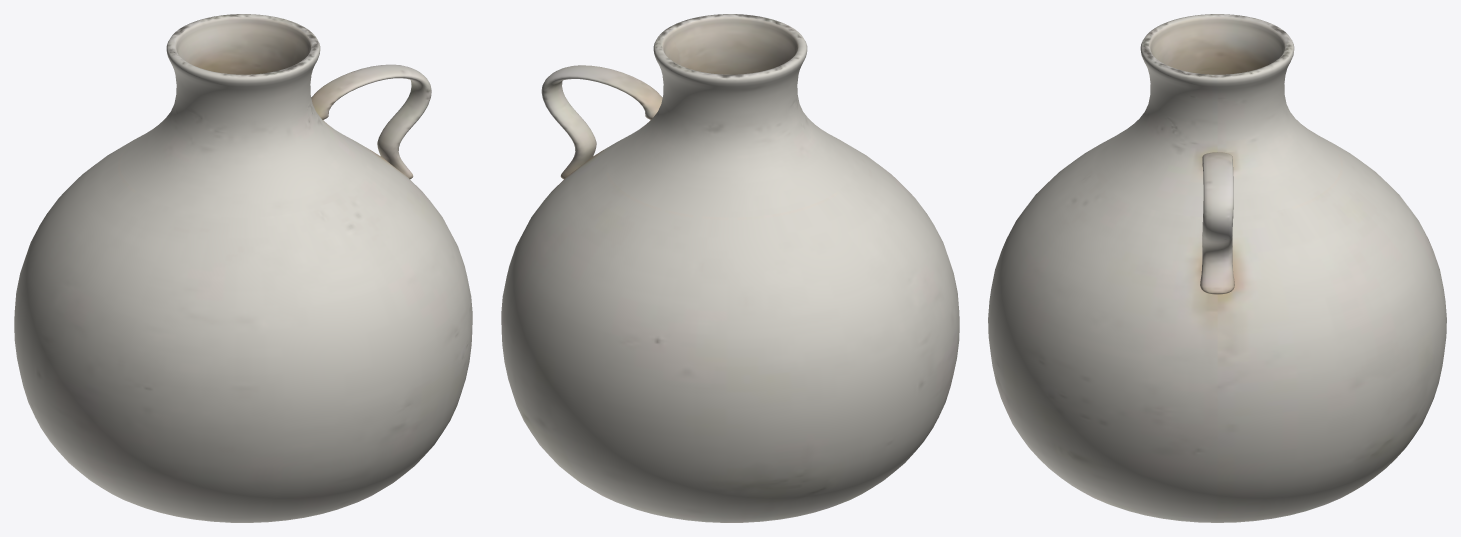
Rendered from ph-ceramic-vase-04.glb.
3 renders of one model, left to right at view 1: azimuth 30°, elevation 25°; view 2: azimuth 150°, elevation 25°; view 3: azimuth 270°, elevation 25°, orthographic.
Visible parts, largest first — view 1: ceramic_vase_04; view 2: ceramic_vase_04; view 3: ceramic_vase_04.
Boxes of the visible parts, x1,y1,x2,y2 form: ceramic_vase_04: (14,14,472,522); ceramic_vase_04: (501,14,959,522); ceramic_vase_04: (988,14,1446,522).
Size of the model in its own units: 1 by 1 by 1.
Materials: 1 (1 with a texture image).
